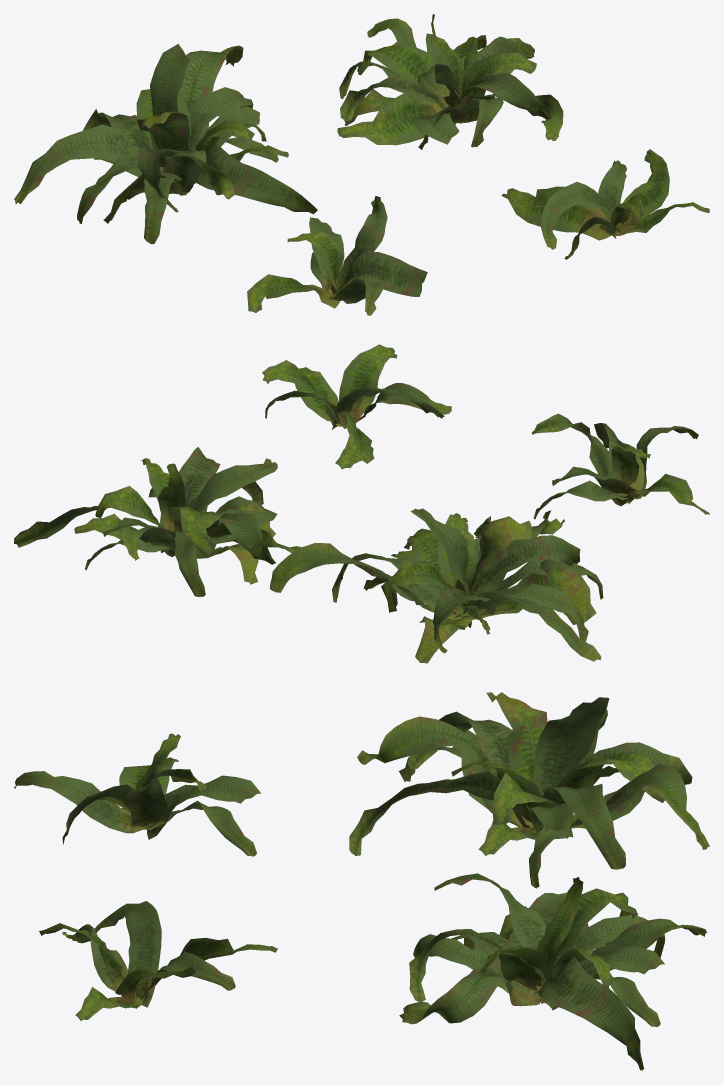
File: fern_02.glb
3 views of the same model, one above another, from view 1: azimuth 30°, elevation 25°; view 2: azimuth 150°, elevation 25°; view 3: azimuth 270°, elevation 25° (orthographic). The views are drawn at different scales.
Visible parts, largest first — view 1: fern_02_b, fern_02_c, fern_02_d, fern_02_a; view 2: fern_02_b, fern_02_c, fern_02_d, fern_02_a; view 3: fern_02_b, fern_02_c, fern_02_a, fern_02_d.
Boxes of the visible parts, <box> form: fern_02_b: <box>14,44,317,244</box>; fern_02_c: <box>337,14,563,149</box>; fern_02_d: <box>501,149,709,259</box>; fern_02_a: <box>247,196,427,315</box>; fern_02_b: <box>269,508,603,663</box>; fern_02_c: <box>14,447,300,596</box>; fern_02_d: <box>262,344,451,469</box>; fern_02_a: <box>531,413,709,519</box>; fern_02_b: <box>349,692,709,888</box>; fern_02_c: <box>399,873,707,1070</box>; fern_02_a: <box>14,733,261,856</box>; fern_02_d: <box>39,901,277,1020</box>.
Bounding box in the file's own units: 1.97 × 0.4277 × 1.72.
1 material, 1 textured.
